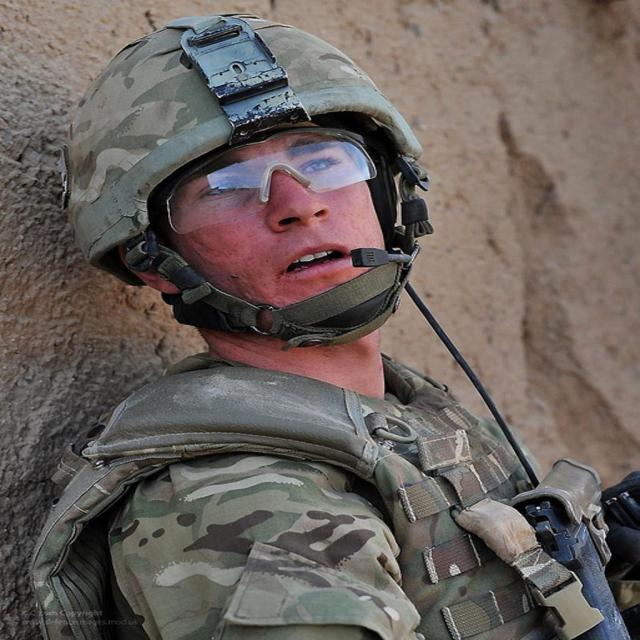Face: (177, 131, 404, 314)
